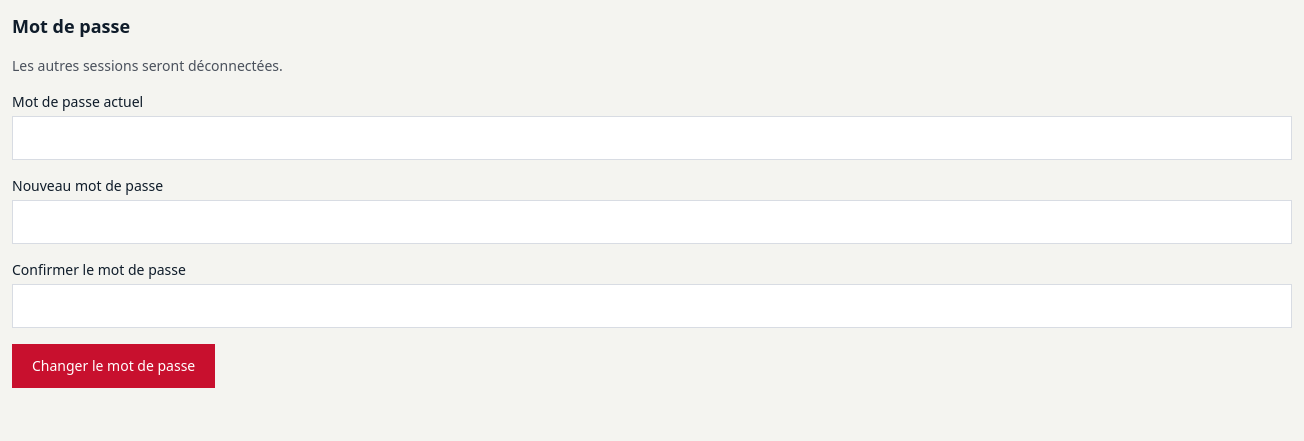
it: ChangePasswordForm › rejects a password shorter than 8 characters
In the password field labelled "Mot de passe actuel": (652, 138) top-left (12, 116), bottom-right (1292, 160), type "old-password"
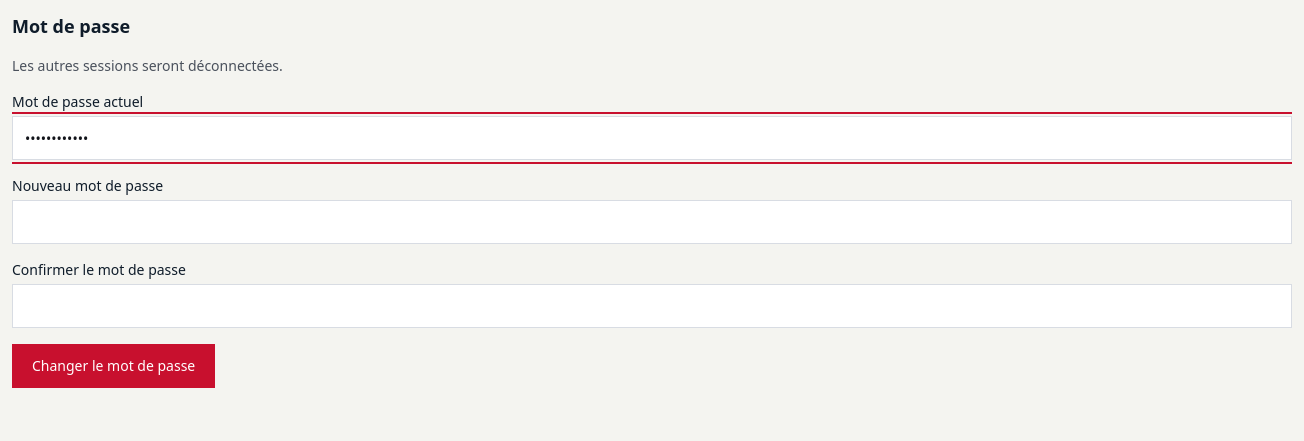
In the password field labelled "Nouveau mot de passe": (652, 222) top-left (12, 200), bottom-right (1292, 244), type "short"
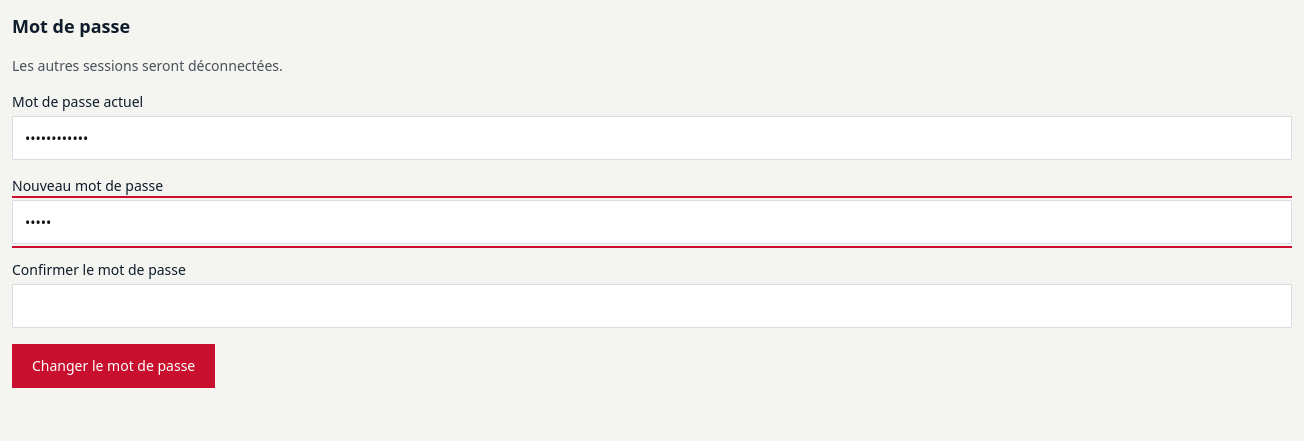
In the password field labelled "Confirmer le mot de passe": (652, 306) top-left (12, 284), bottom-right (1292, 328), type "short"
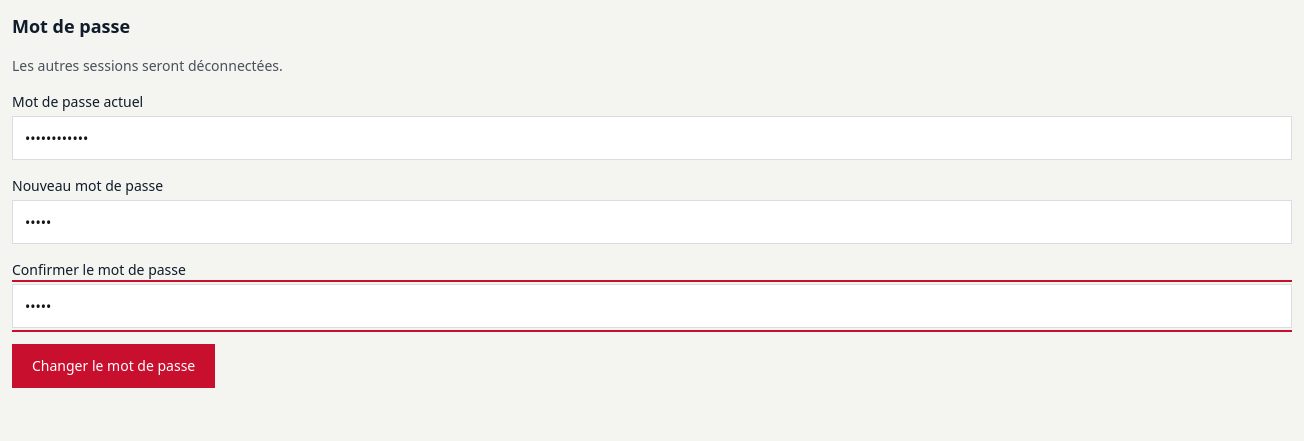
Submit the form "Mot de passe"
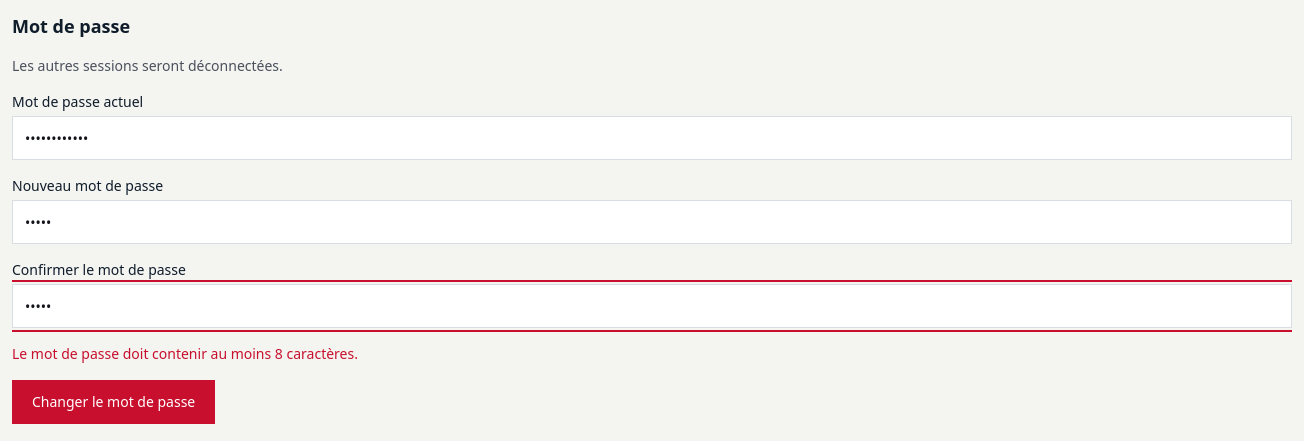
Expected: the message reads "Le mot de passe doit contenir au moins 8 caractères.", top-left (12, 344), bottom-right (358, 363)
